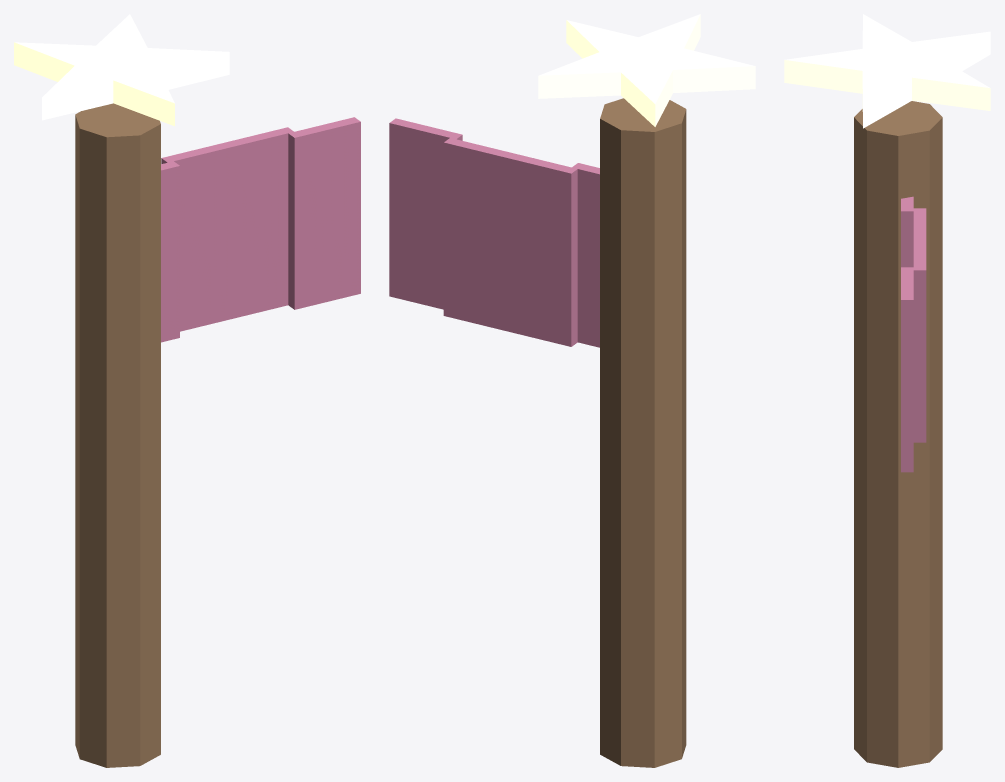
Rendered from Deco_BannerPost_Star.fbx.
3 renders of one model, left to right at view 1: azimuth 30°, elevation 25°; view 2: azimuth 150°, elevation 25°; view 3: azimuth 270°, elevation 25°, orthographic.
Parts seen in each view (by area): view 1: Deco_BannerPost_Star_Post, Deco_BannerPost_Star, Deco_BannerPost_Star_Star; view 2: Deco_BannerPost_Star_Post, Deco_BannerPost_Star, Deco_BannerPost_Star_Star; view 3: Deco_BannerPost_Star_Post, Deco_BannerPost_Star_Star, Deco_BannerPost_Star.
Boxes of the visible parts, bbox=[...] form: Deco_BannerPost_Star_Post: bbox=[75, 103, 160, 767]; Deco_BannerPost_Star: bbox=[161, 117, 360, 342]; Deco_BannerPost_Star_Star: bbox=[14, 14, 229, 126]; Deco_BannerPost_Star_Post: bbox=[600, 98, 686, 767]; Deco_BannerPost_Star: bbox=[389, 118, 599, 347]; Deco_BannerPost_Star_Star: bbox=[538, 14, 755, 126]; Deco_BannerPost_Star_Post: bbox=[854, 101, 942, 767]; Deco_BannerPost_Star_Star: bbox=[784, 14, 990, 128]; Deco_BannerPost_Star: bbox=[901, 196, 926, 472].
Bounding box in the file's own units: 0.3083 × 0.6 × 0.1628.
